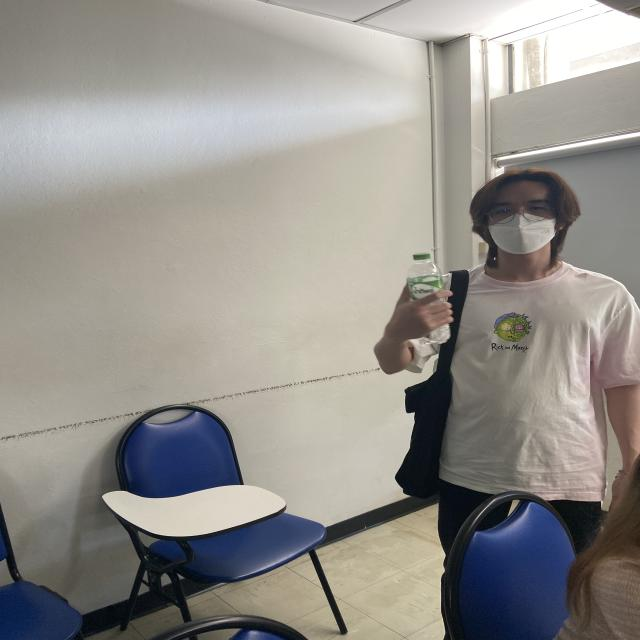bottle: (407, 252, 452, 346)
